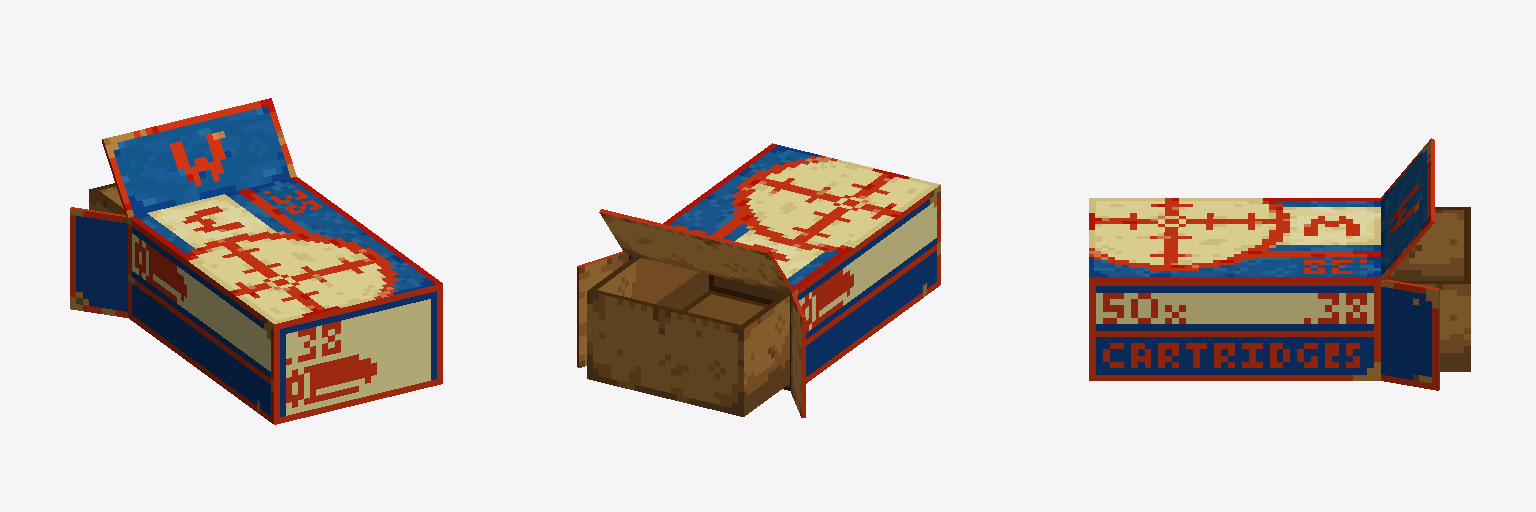
The picture shows the model from 3 angles: view 1: azimuth 30°, elevation 25°; view 2: azimuth 150°, elevation 25°; view 3: azimuth 270°, elevation 25°; orthographic projection.
Parts seen in each view (by area): view 1: package, flapTop, flapRight, internalBox; view 2: package, internalBox, flapTop, flapLeft, flapRight; view 3: package, internalBox, flapLeft, flapTop.
Boxes of the visible parts, <box> form: package: <box>128,177,442,424</box>; flapTop: <box>102,98,296,217</box>; flapRight: <box>70,207,127,317</box>; internalBox: <box>89,183,259,313</box>; package: <box>629,143,940,390</box>; internalBox: <box>587,250,850,416</box>; flapTop: <box>599,209,794,293</box>; flapLeft: <box>577,251,628,367</box>; flapRight: <box>791,292,805,417</box>; package: <box>1089,198,1380,380</box>; internalBox: <box>1387,207,1470,371</box>; flapLeft: <box>1381,279,1439,390</box>; flapTop: <box>1381,138,1434,279</box>.
Size of the model in its own units: 2.33 by 1.59 by 3.44.
Materials: 1 (1 with a texture image).